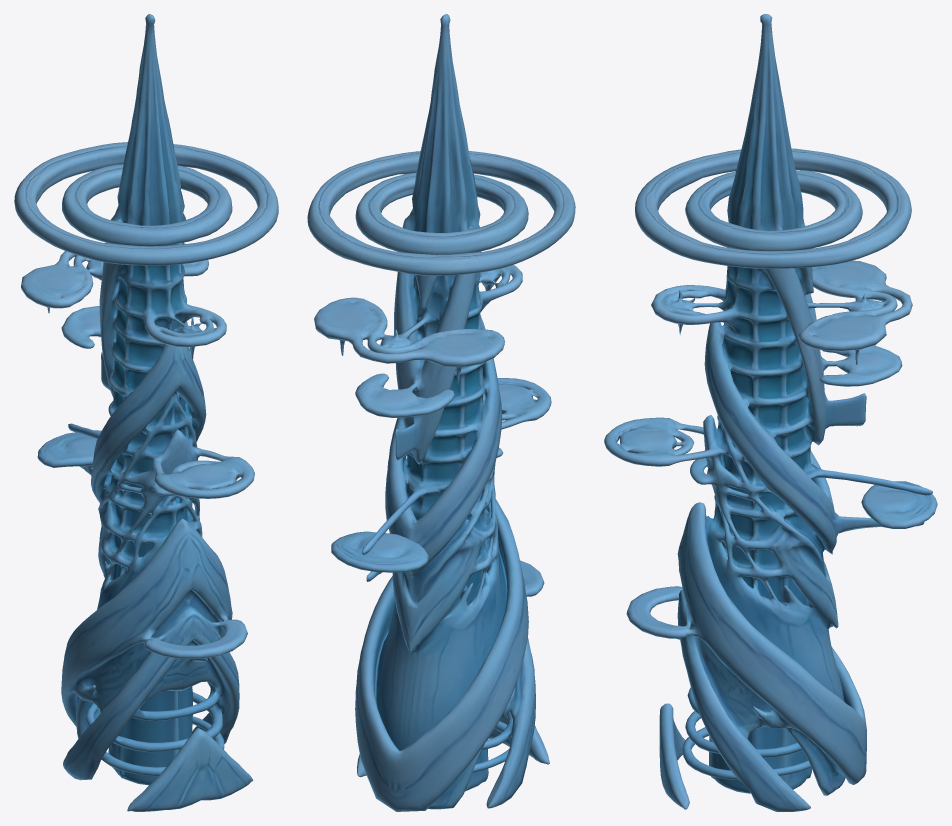
File: base_basic_pbr.glb
3 renders of one model, left to right at view 1: azimuth 30°, elevation 25°; view 2: azimuth 150°, elevation 25°; view 3: azimuth 270°, elevation 25°, orthographic.
Parts seen in each view (by area): view 1: model; view 2: model; view 3: model.
Boxes of the visible parts, left/top/right/bottom form: model: left=14, top=14, right=278, bottom=811; model: left=307, top=14, right=575, bottom=811; model: left=604, top=14, right=937, bottom=811.
Size of the model in its own units: 0.59 by 1.9 by 0.7506.
1 material, 1 textured.
